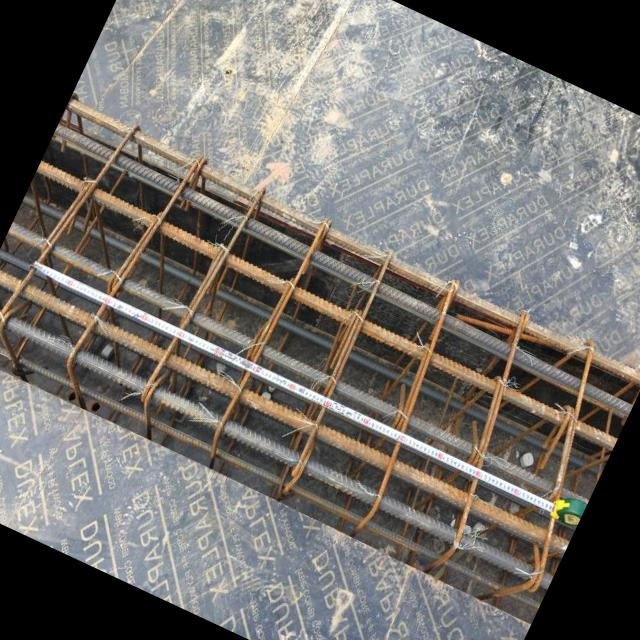ribbed bar: (48, 123, 639, 420), (34, 160, 622, 452), (0, 262, 574, 559), (4, 223, 592, 512), (60, 98, 640, 390), (0, 298, 557, 596), (0, 329, 542, 613), (486, 346, 640, 587), (419, 311, 563, 551), (0, 107, 136, 348), (65, 144, 204, 375), (347, 276, 482, 512), (136, 181, 266, 410), (284, 249, 404, 478), (213, 220, 329, 441)
